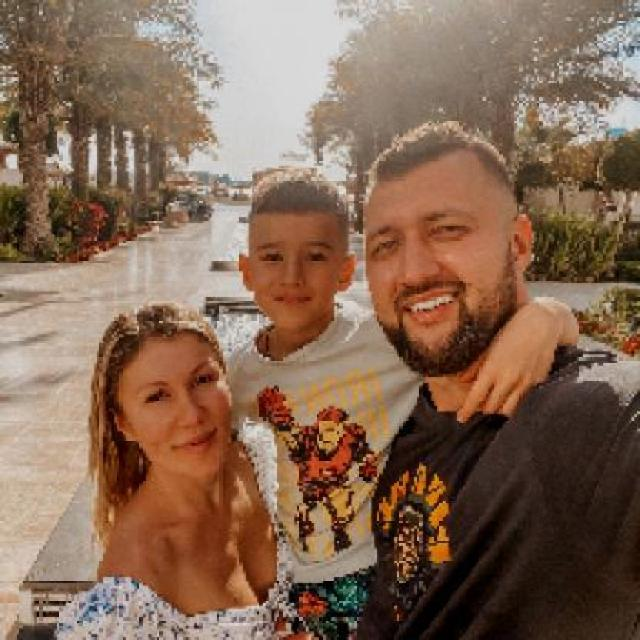child: (225, 168, 378, 638), (251, 168, 346, 215)
